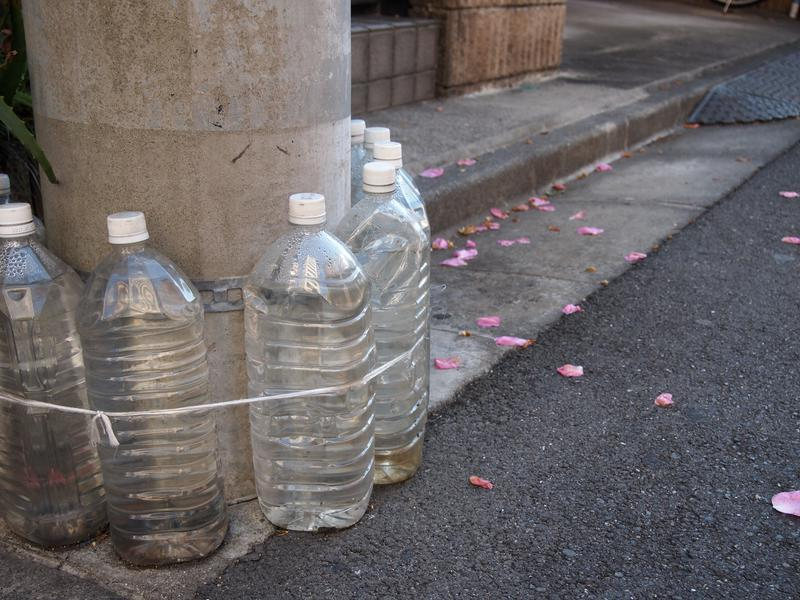bottle: (87, 192, 253, 572), (234, 182, 376, 530), (1, 192, 109, 549), (342, 157, 433, 482)
